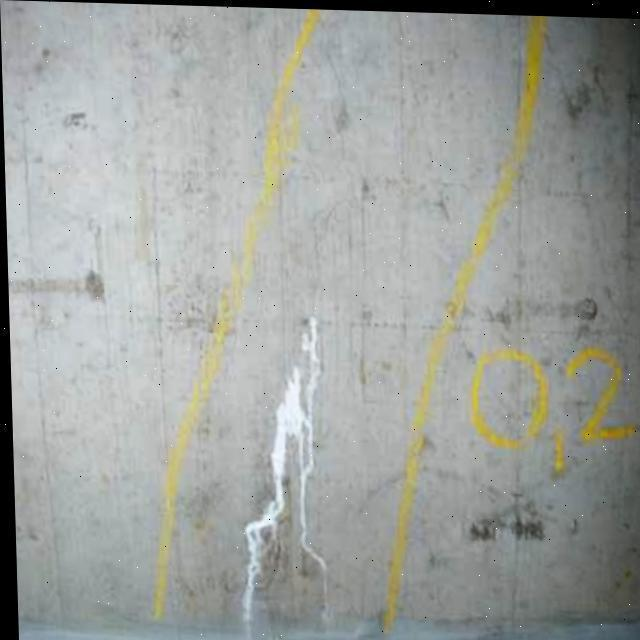D01: (242, 318, 320, 621)
